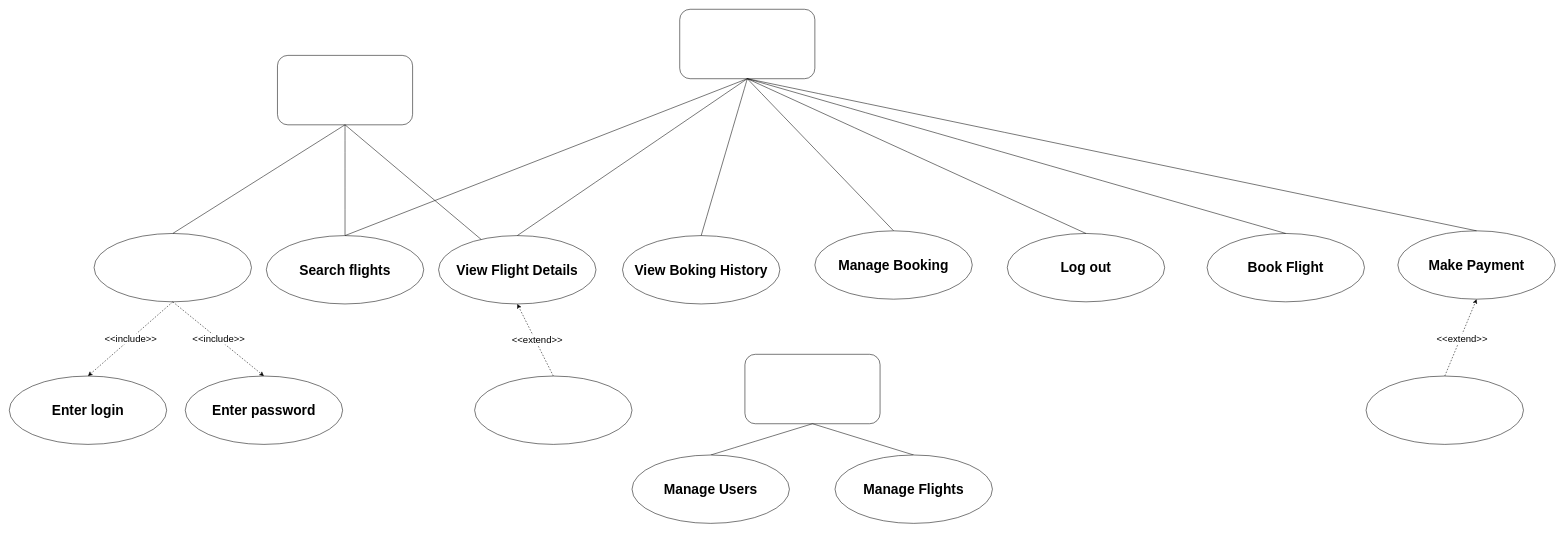
Image size: 1565x533. Some labels were removed from this diagram. Each missing label, with the box of its shape:
Admin: (744, 354, 880, 424)
Apply Discount: (1366, 376, 1523, 444)
Filter & Sort: (474, 376, 632, 444)
Register/Login: (94, 233, 251, 302)
Unauthenticated User: (277, 55, 413, 125)
User: (679, 9, 815, 79)
